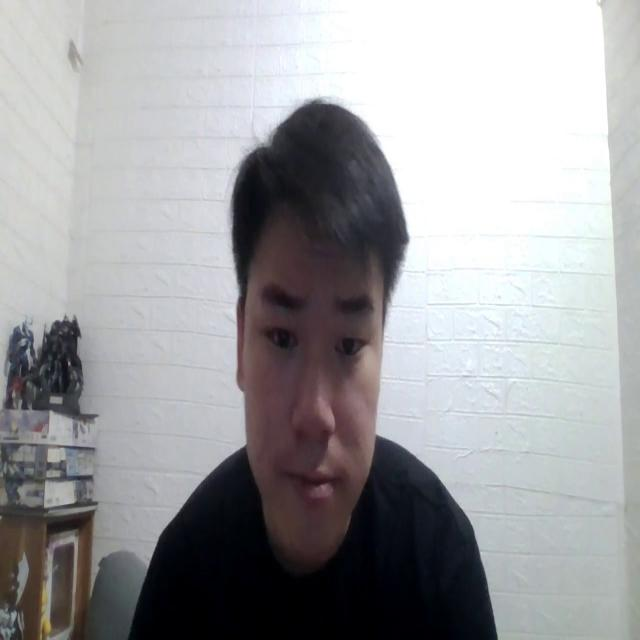student: (130, 90, 499, 640)
